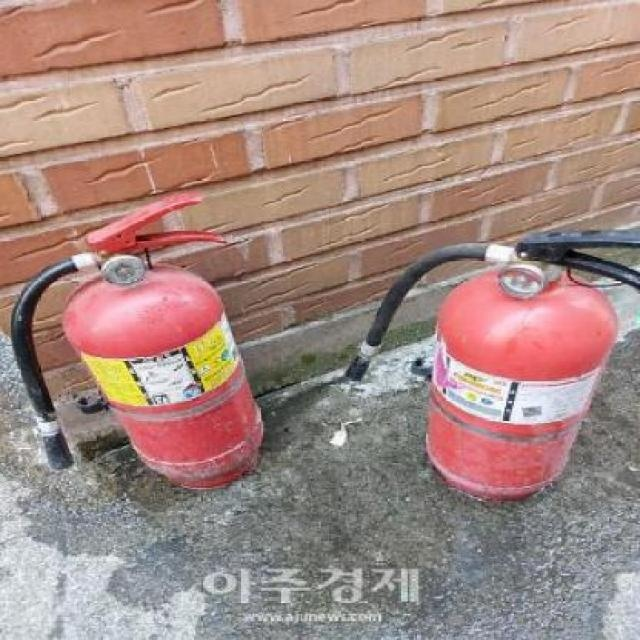fire extinguisher: (341, 230, 640, 497), (10, 194, 264, 491)
